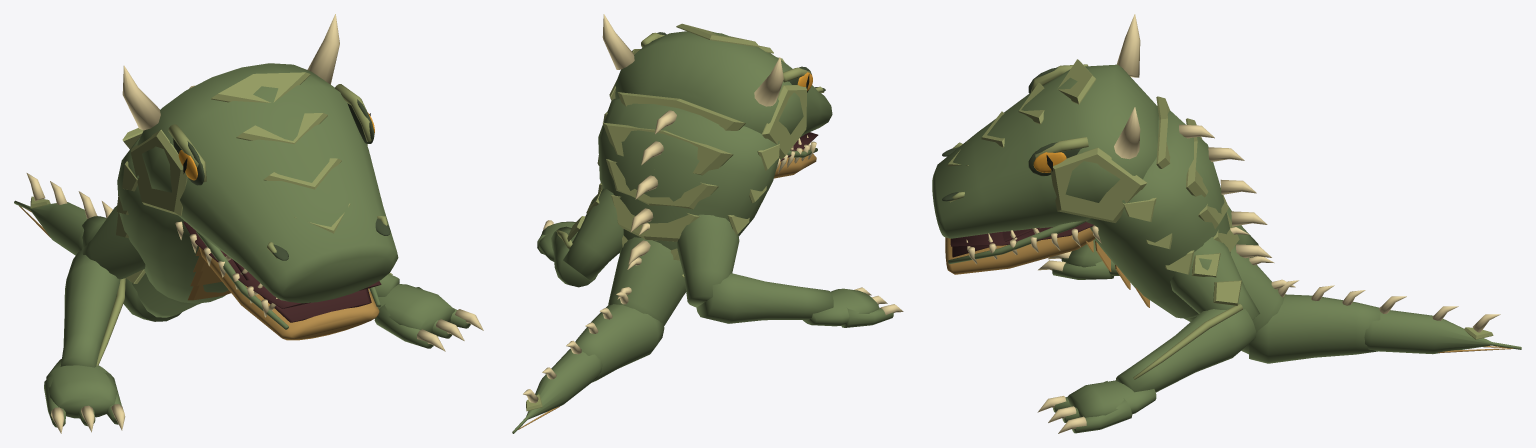
File: dodongos.glb
The picture shows the model from 3 angles, left to right: view 1: azimuth 30°, elevation 25°; view 2: azimuth 150°, elevation 25°; view 3: azimuth 270°, elevation 25°; orthographic projection. The views are drawn at different scales.
Visible parts, largest first — view 1: Dodongo.0.07.continuous armored head, Dodongo.0.16.continuous low torso, Dodongo.0.29.tapered shank, Dodongo.0.06.cupped lower jaw, Dodongo.0.28.broad grounded foot, Dodongo.0.07.angular cheek shield, Dodongo.0.21.broad grounded foot, Dodongo.0.30.muscular thigh, Dodongo.0.13.tapered flexible tail, Dodongo.0.07.crown scute, Dodongo.0.06.lower mouth interior, Dodongo.0.07.swept cheek horn (+11 smaller); view 2: Dodongo.0.16.continuous low torso, Dodongo.0.07.continuous armored head, Dodongo.0.29.tapered shank, Dodongo.0.15.tapered flexible tail, Dodongo.0.30.muscular thigh, Dodongo.0.14.tapered flexible tail, Dodongo.0.23.muscular thigh, Dodongo.0.13.tapered flexible tail, Dodongo.0.16.overlapping dorsal shield.001, Dodongo.0.07.angular cheek shield, Dodongo.0.28.broad grounded foot, Dodongo.0.16.overlapping dorsal shield.003 (+9 smaller); view 3: Dodongo.0.07.continuous armored head, Dodongo.0.16.continuous low torso, Dodongo.0.14.tapered flexible tail, Dodongo.0.22.tapered shank, Dodongo.0.13.tapered flexible tail, Dodongo.0.07.angular cheek shield.001, Dodongo.0.23.muscular thigh, Dodongo.0.06.cupped lower jaw, Dodongo.0.21.broad grounded foot, Dodongo.0.15.tapered flexible tail, Dodongo.0.07.recessed upper palate, Dodongo.0.07.swept cheek horn (+10 smaller).
Part boxes in pixels (box(x1,y1,x2,y2)): Dodongo.0.07.continuous armored head: box(137, 63, 398, 303); Dodongo.0.16.continuous low torso: box(117, 136, 228, 303); Dodongo.0.29.tapered shank: box(60, 250, 120, 367); Dodongo.0.06.cupped lower jaw: box(199, 247, 379, 340); Dodongo.0.28.broad grounded foot: box(46, 359, 116, 418); Dodongo.0.07.angular cheek shield: box(130, 129, 187, 215); Dodongo.0.21.broad grounded foot: box(378, 284, 454, 333); Dodongo.0.30.muscular thigh: box(82, 205, 145, 279); Dodongo.0.13.tapered flexible tail: box(14, 200, 97, 255); Dodongo.0.07.crown scute: box(211, 72, 310, 102); Dodongo.0.06.lower mouth interior: box(233, 260, 371, 322); Dodongo.0.07.swept cheek horn: box(122, 65, 160, 130); Dodongo.0.16.continuous low torso: box(598, 98, 779, 253); Dodongo.0.07.continuous armored head: box(615, 31, 832, 137); Dodongo.0.29.tapered shank: box(696, 273, 833, 323); Dodongo.0.15.tapered flexible tail: box(608, 237, 686, 325); Dodongo.0.30.muscular thigh: box(677, 214, 739, 307); Dodongo.0.14.tapered flexible tail: box(569, 304, 664, 382); Dodongo.0.23.muscular thigh: box(563, 188, 623, 281); Dodongo.0.13.tapered flexible tail: box(512, 349, 602, 433); Dodongo.0.16.overlapping dorsal shield.001: box(603, 122, 733, 175); Dodongo.0.07.angular cheek shield: box(762, 85, 806, 159); Dodongo.0.28.broad grounded foot: box(803, 288, 879, 326); Dodongo.0.16.overlapping dorsal shield.003: box(611, 195, 699, 241); Dodongo.0.07.continuous armored head: box(932, 64, 1158, 238); Dodongo.0.16.continuous low torso: box(1086, 106, 1230, 318); Dodongo.0.14.tapered flexible tail: box(1249, 294, 1380, 363); Dodongo.0.22.tapered shank: box(1116, 309, 1255, 392); Dodongo.0.13.tapered flexible tail: box(1364, 310, 1521, 354); Dodongo.0.07.angular cheek shield.001: box(1050, 147, 1146, 222); Dodongo.0.23.muscular thigh: box(1170, 237, 1259, 319); Dodongo.0.06.cupped lower jaw: box(945, 227, 1095, 274); Dodongo.0.21.broad grounded foot: box(1067, 380, 1156, 417); Dodongo.0.15.tapered flexible tail: box(1184, 245, 1284, 354); Dodongo.0.07.recessed upper palate: box(950, 222, 1093, 246); Dodongo.0.07.swept cheek horn: box(1116, 14, 1140, 77).
Bounding box in the file's own units: 50.77 × 38.21 × 68.06.
